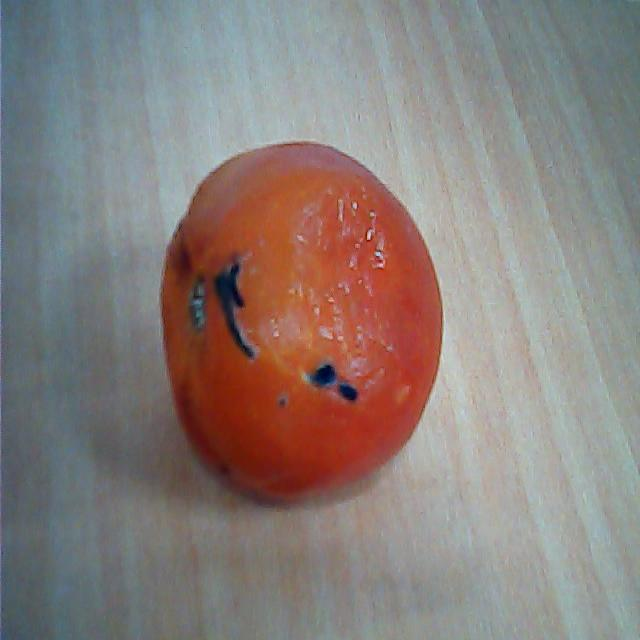defectuoso: (153, 137, 445, 509)
